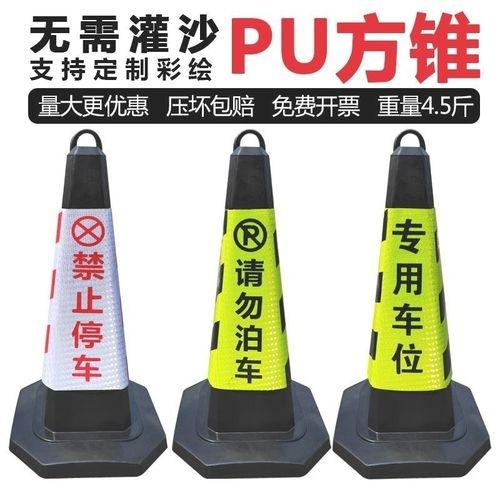cone_barrel: (178, 144, 315, 456), (15, 144, 153, 448), (340, 144, 473, 455)
